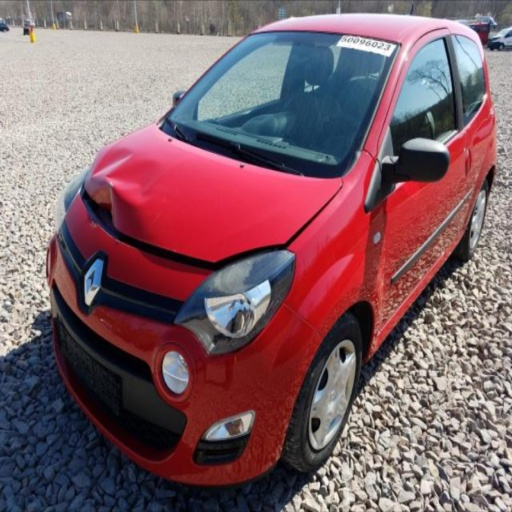dent: (85, 145, 207, 262), (88, 212, 120, 244)
